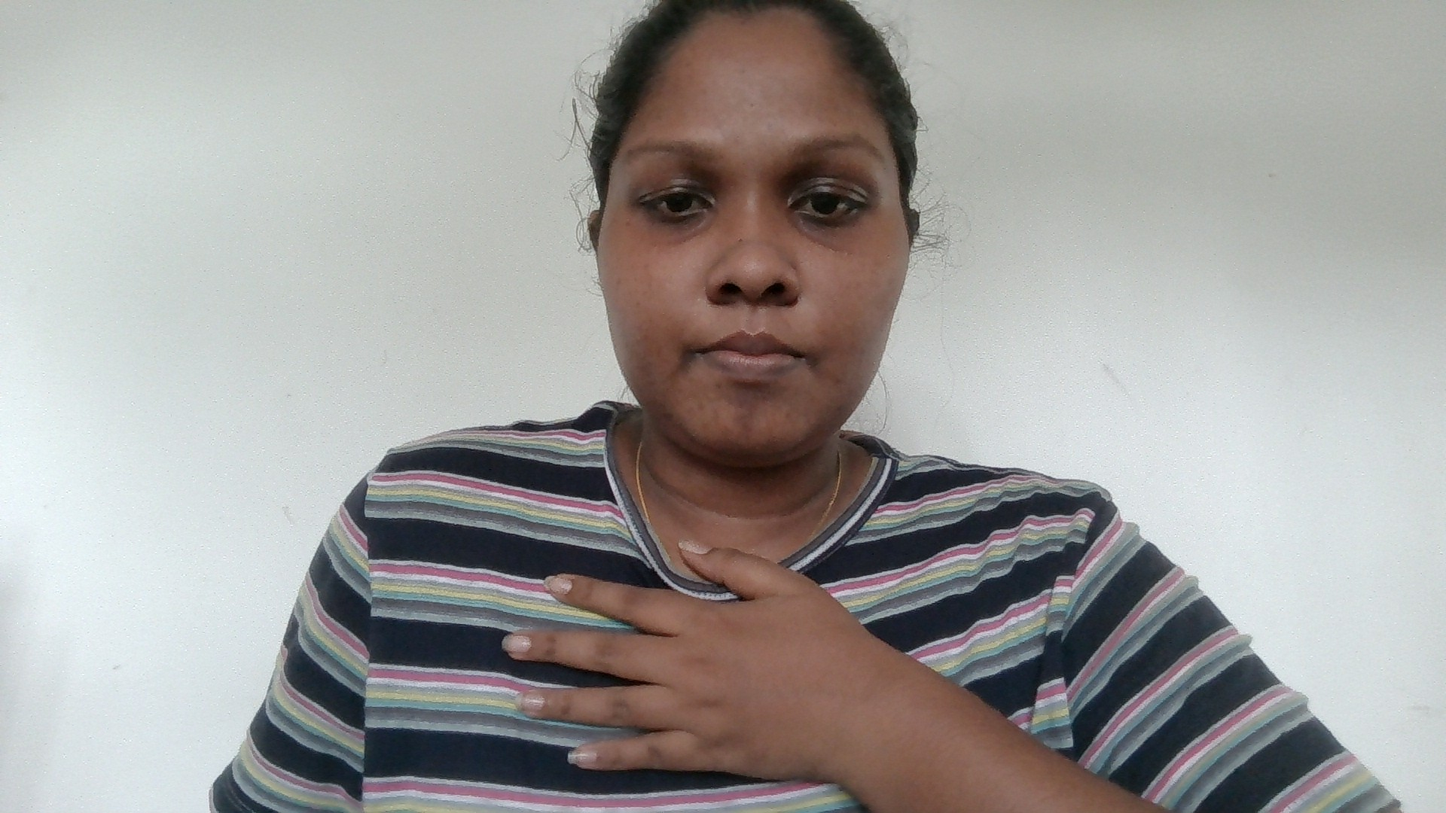Please: (499, 546, 954, 793)
